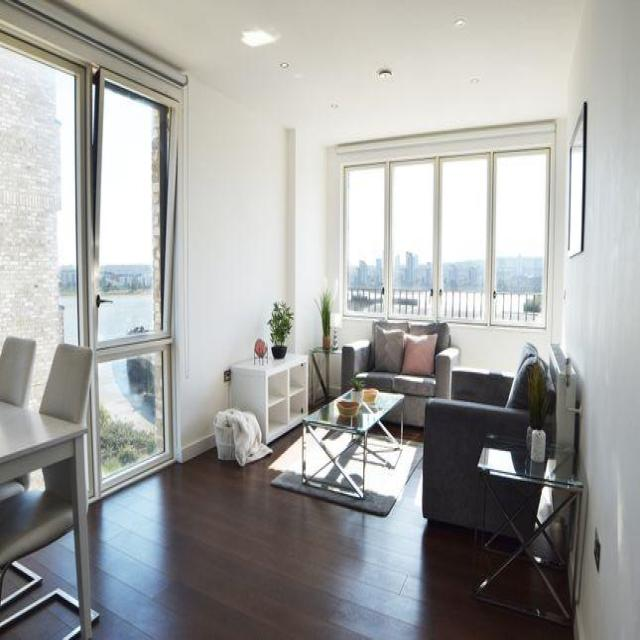Wall: (89, 429, 570, 639), (65, 1, 584, 142), (175, 77, 328, 461), (564, 0, 640, 638), (451, 120, 564, 370), (0, 535, 74, 614), (0, 602, 79, 639), (345, 319, 370, 340), (5, 572, 20, 592)
